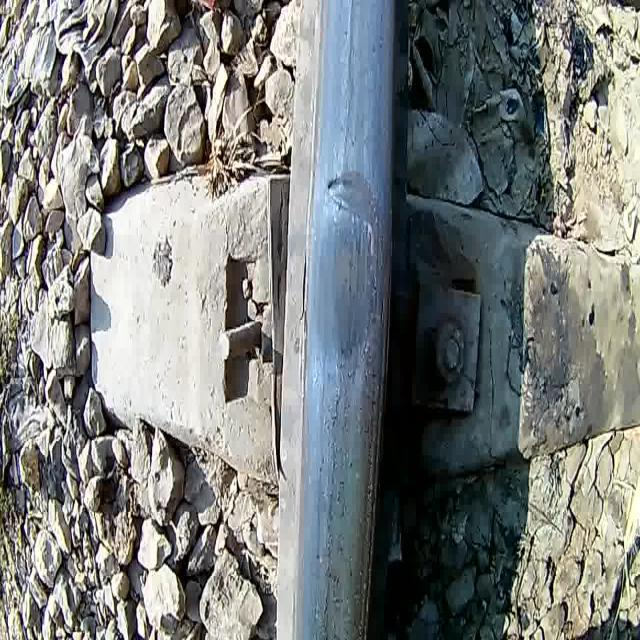Squats: (276, 0, 418, 640)
